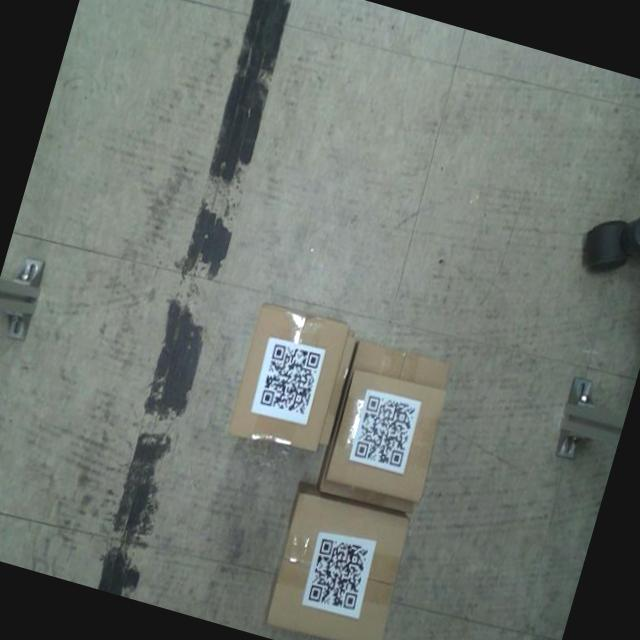box: (264, 489, 411, 640), (227, 301, 351, 453), (325, 368, 450, 503)
